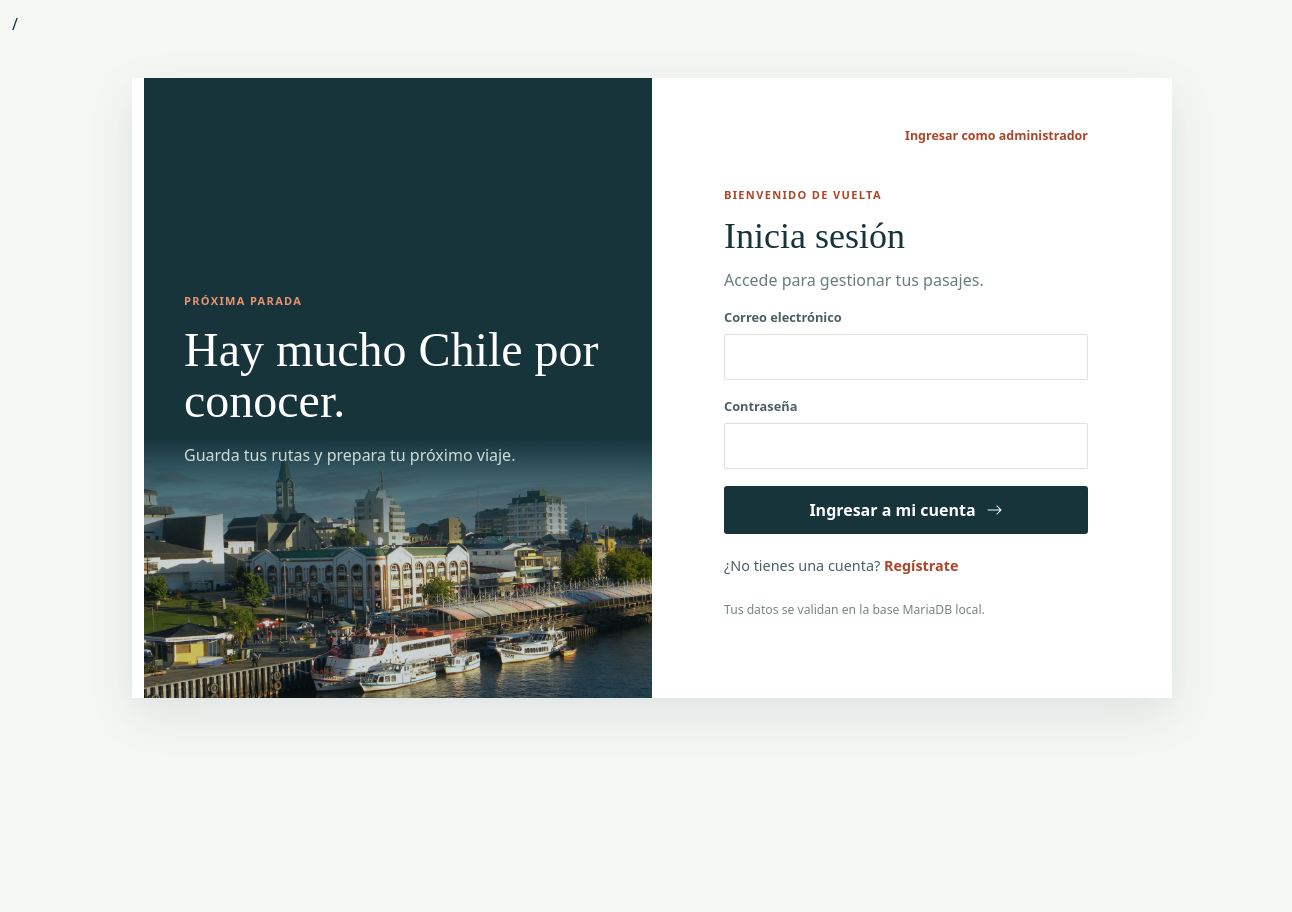
Test: LoginPage › no permite que una cuenta cliente use el acceso de administrador
This screenshot has width=1292, height=912.
Click the button "Ingresar como administrador". click: (996, 136)
box: [905,127,1088,145]
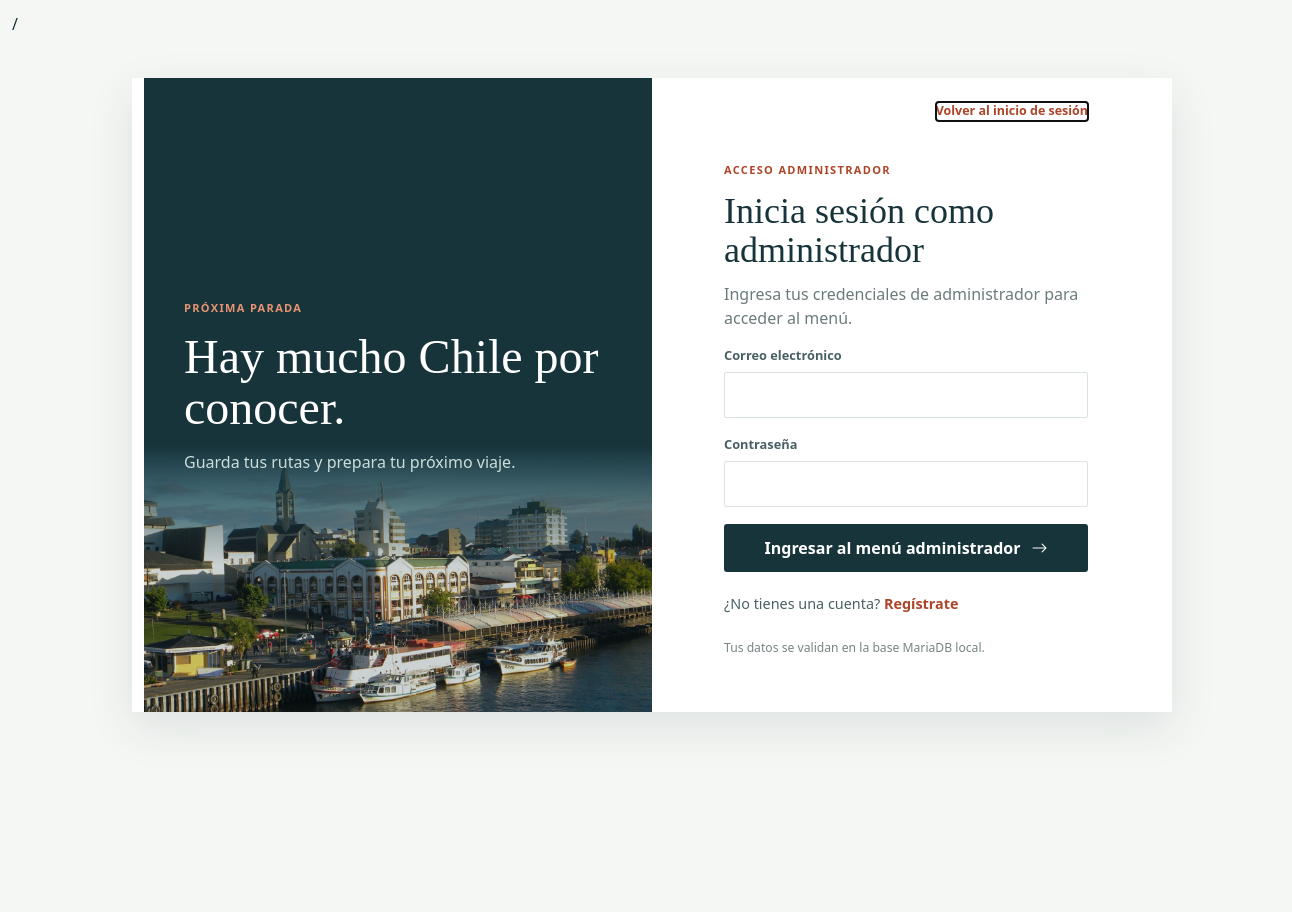
Type "cliente@example.com" into the field labelled "Correo electrónico". click: (906, 395)
box: [724,372,1088,418]
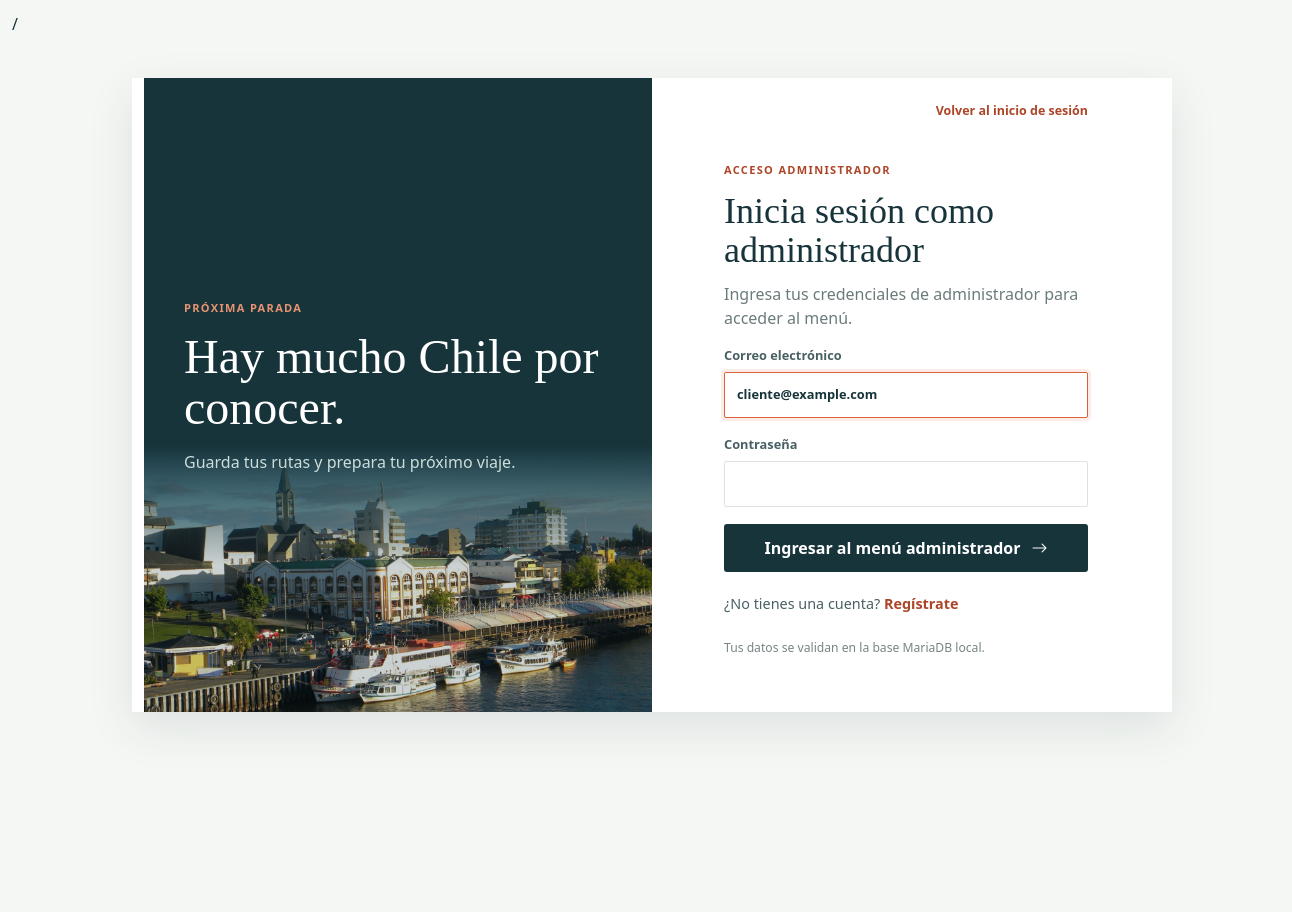
Type "secreto123" into the password field labelled "Contraseña". click: (906, 484)
box: [724,461,1088,507]
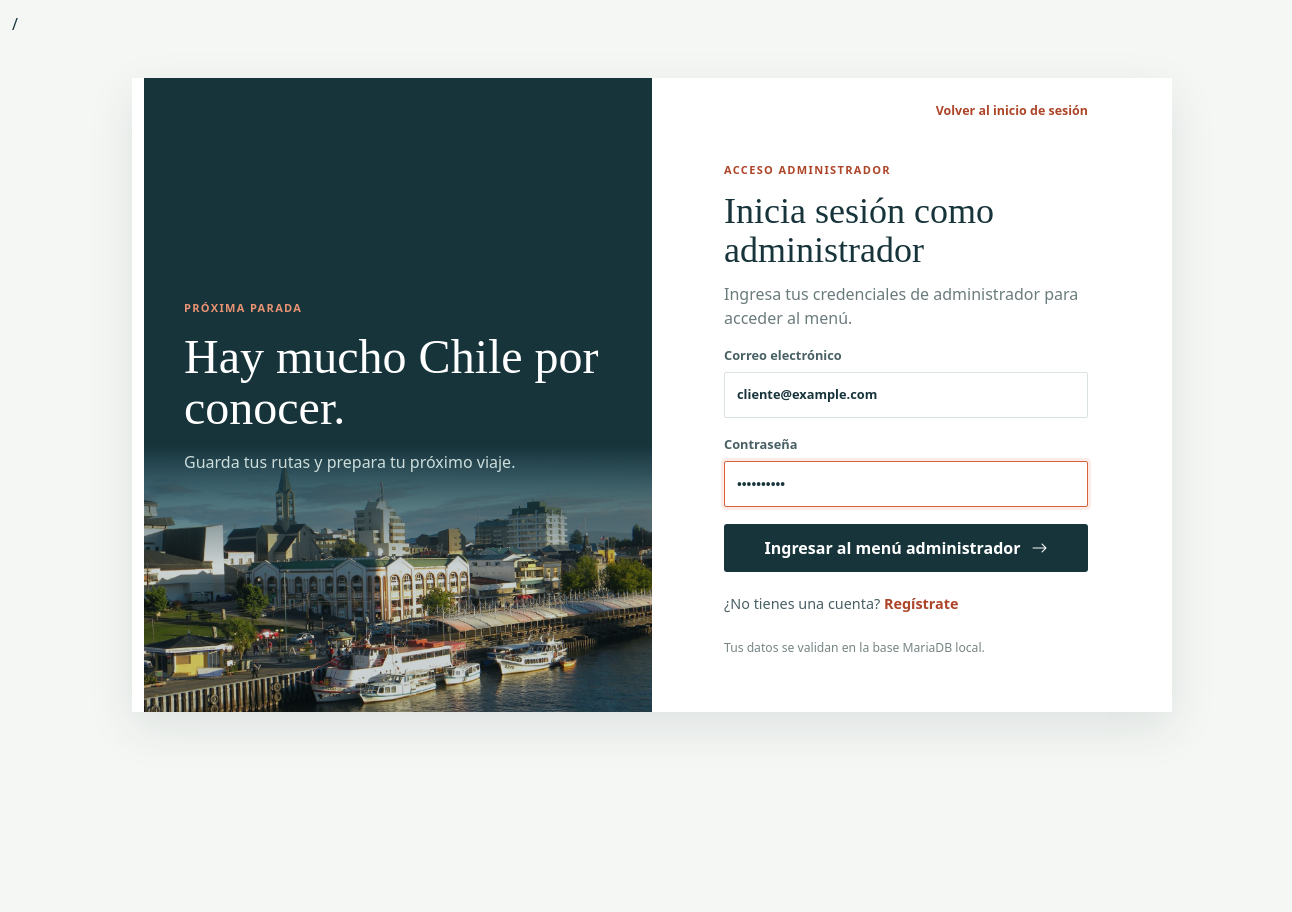
Click the button "Ingresar al menú administrador". click: (906, 548)
box: [724,524,1088,572]
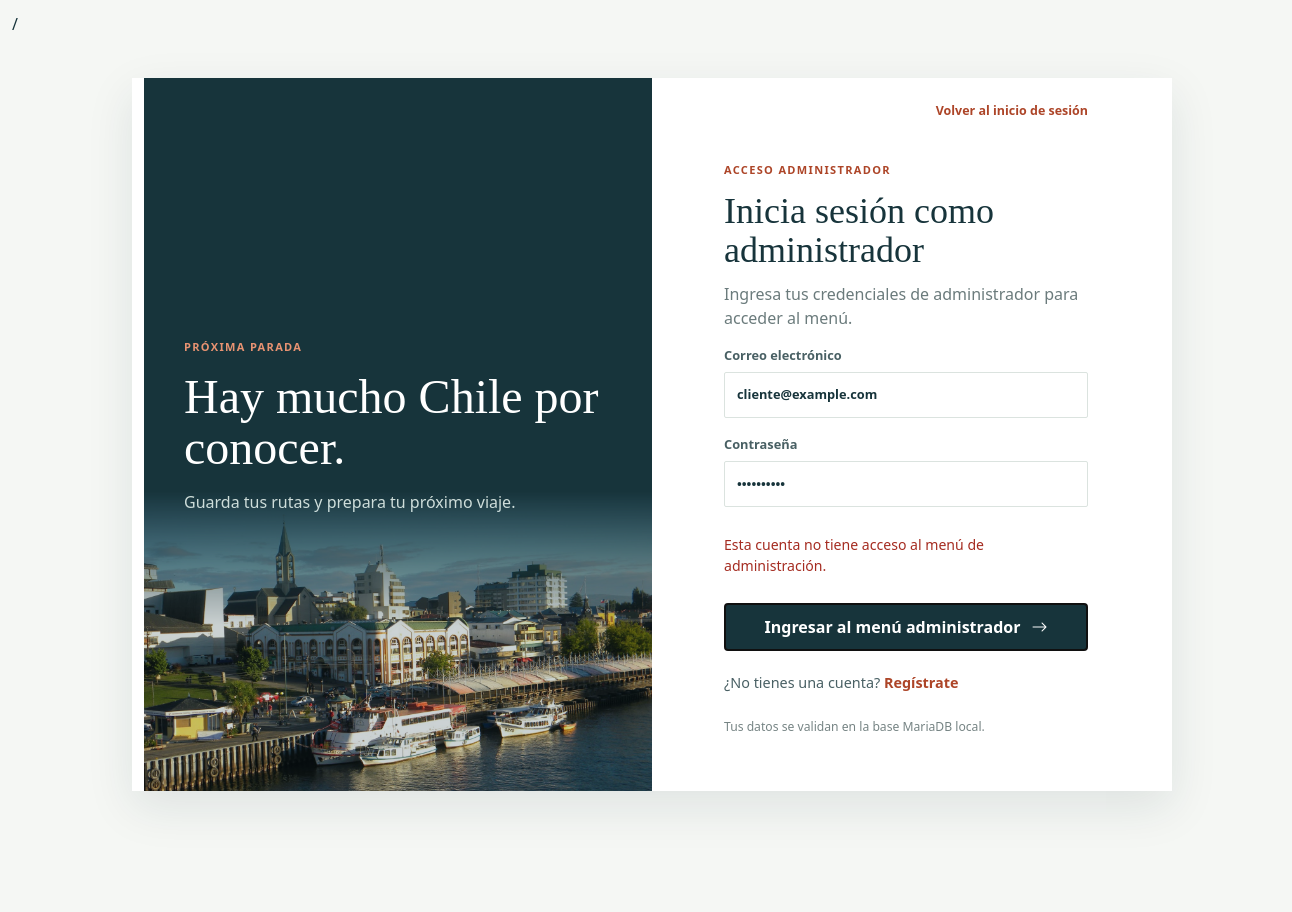
Check: the message shows "Esta cuenta no tiene acceso", box [724,535,984,575]
